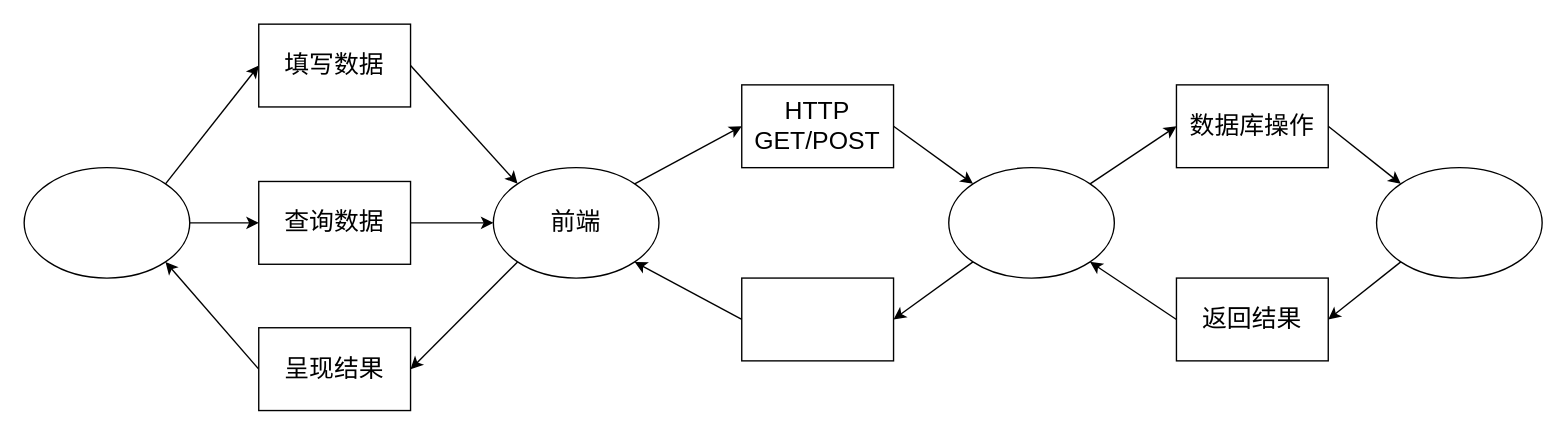
Some shapes in this 1566 by 435 pixel diagram are drawn without their labels. Each missing label, with the centre of its shape:
"MySQL" goes at point 1458,222.
"后端(Django)" goes at point 1030,222.
"渲染模板" goes at point 817,319.
"用户" goes at point 106,222.
